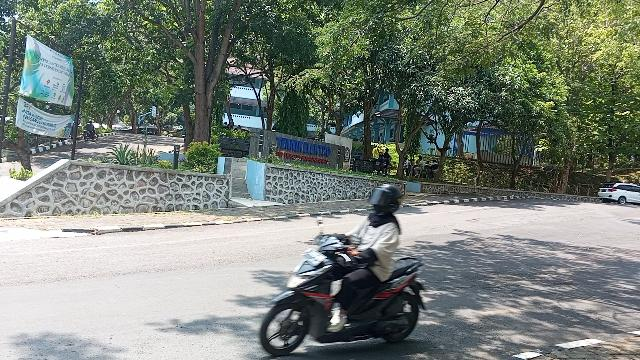helm: (371, 184, 403, 213)
motor: (262, 238, 430, 357)
